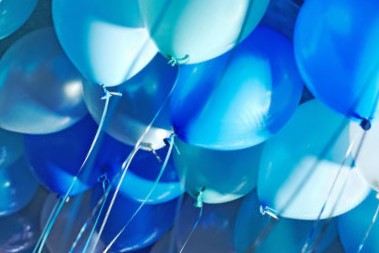Balloon: (260, 98, 360, 219), (294, 1, 379, 120), (48, 1, 163, 85), (1, 30, 86, 135), (140, 1, 271, 67)
